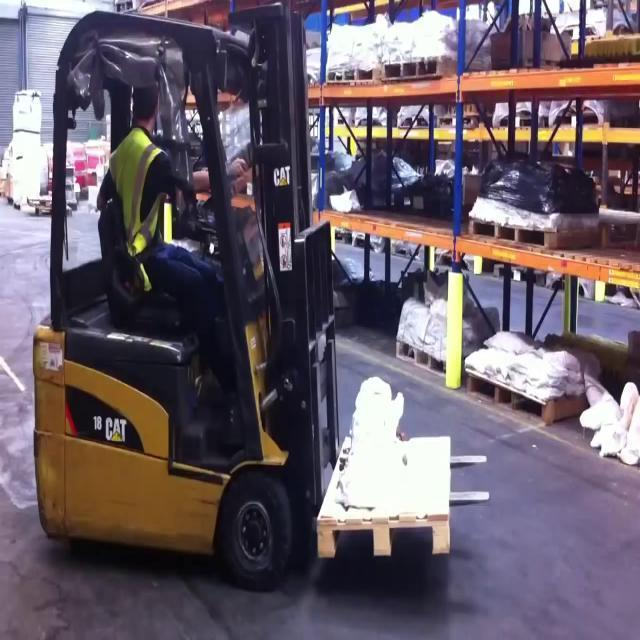forklift: (33, 11, 327, 550)
